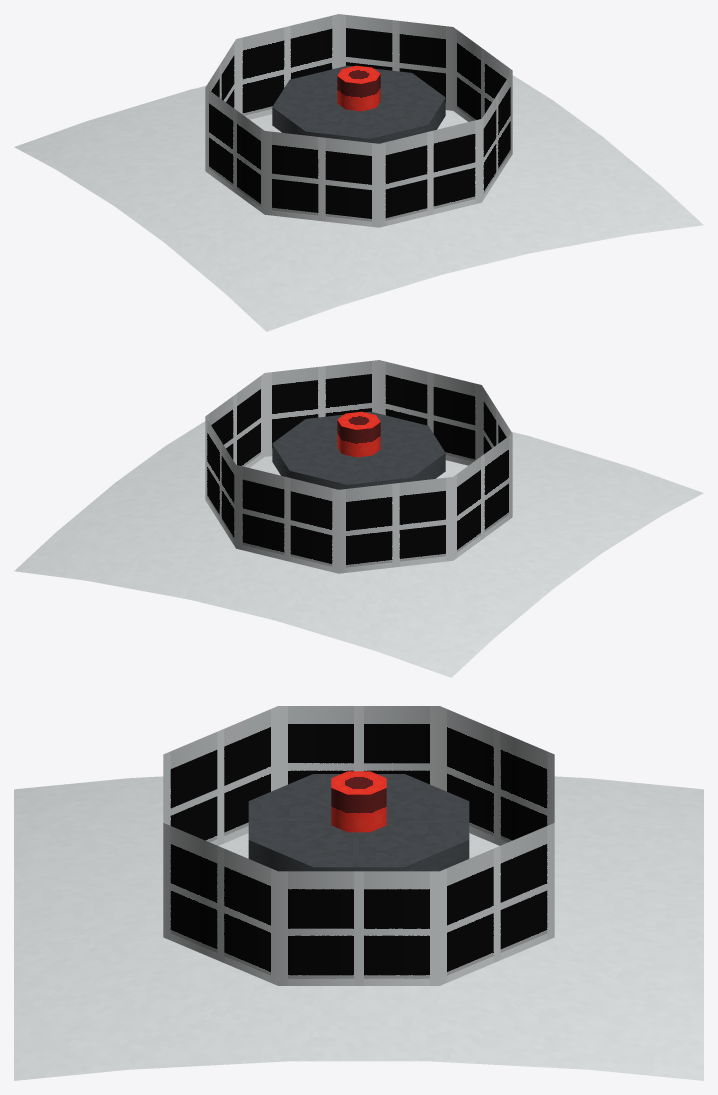
File: spheroid_small_1_1_1.obj
3 renders of one model, top to bottom at view 1: azimuth 30°, elevation 25°; view 2: azimuth 150°, elevation 25°; view 3: azimuth 270°, elevation 25°, orthographic. The views are drawn at different scales.
Parts seen in each view (by area): view 1: spheroid_small_1_1_1; view 2: spheroid_small_1_1_1; view 3: spheroid_small_1_1_1.
Boxes of the visible parts, box(x1,y1,x2,y2) form: spheroid_small_1_1_1: box(14, 14, 703, 331); spheroid_small_1_1_1: box(14, 360, 703, 677); spheroid_small_1_1_1: box(14, 706, 703, 1080).
Size of the model in its own units: 3 by 0.7298 by 3.
